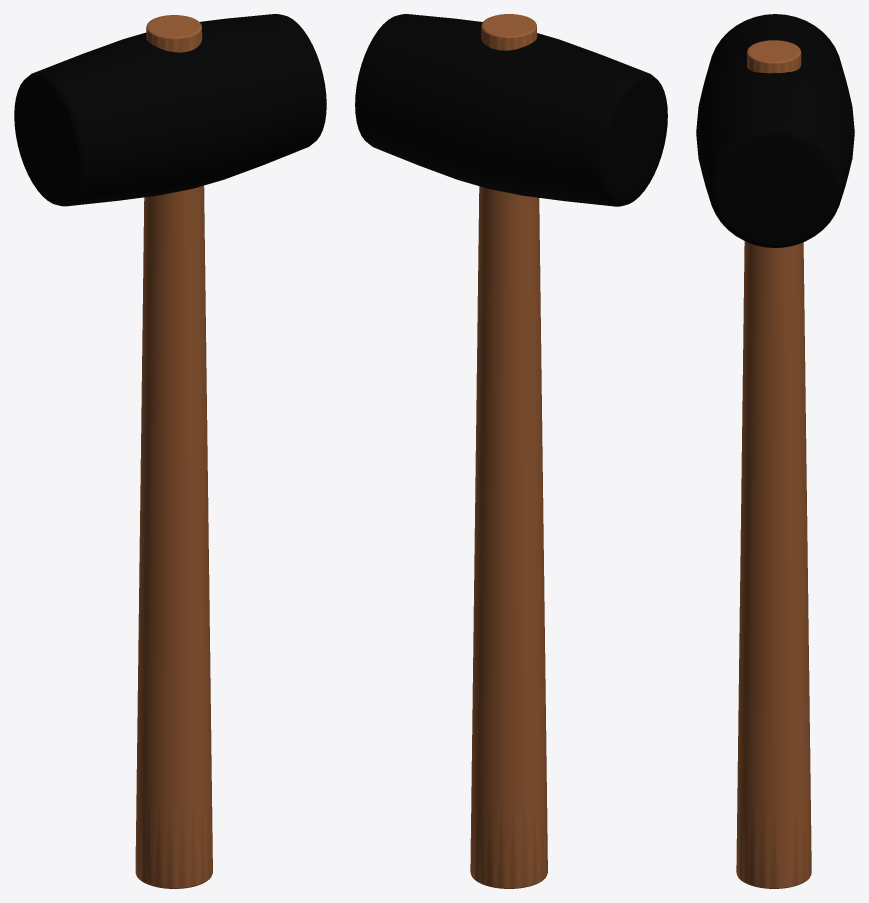
Rendered from gummihammer.fbx.
3 views of the same model, side by side, from view 1: azimuth 30°, elevation 25°; view 2: azimuth 150°, elevation 25°; view 3: azimuth 270°, elevation 25° (orthographic). The views are drawn at different scales.
Visible parts, largest first — view 1: IMS_Mallet_VR; view 2: IMS_Mallet_VR; view 3: IMS_Mallet_VR.
Boxes of the visible parts, <box> form: IMS_Mallet_VR: <box>14,14,326,888</box>; IMS_Mallet_VR: <box>355,14,667,888</box>; IMS_Mallet_VR: <box>696,14,854,888</box>.
Bounding box in the file's own units: 5.16 × 29.61 × 9.06.
